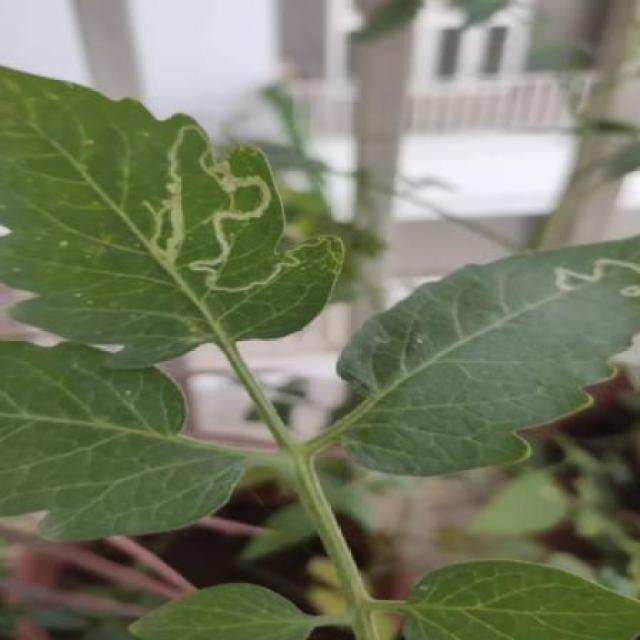Leaf Miner: (0, 68, 349, 372), (338, 234, 639, 479)
